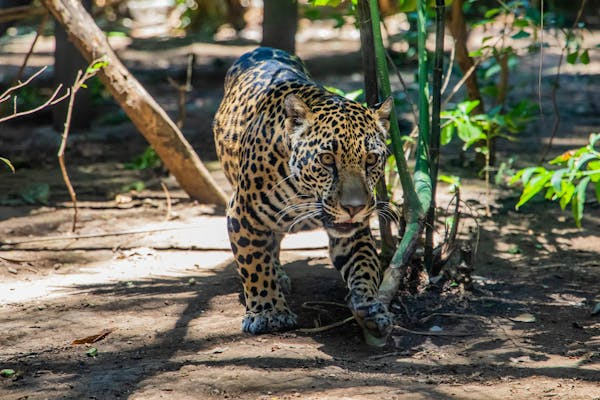Leopard: (212, 47, 396, 346)
